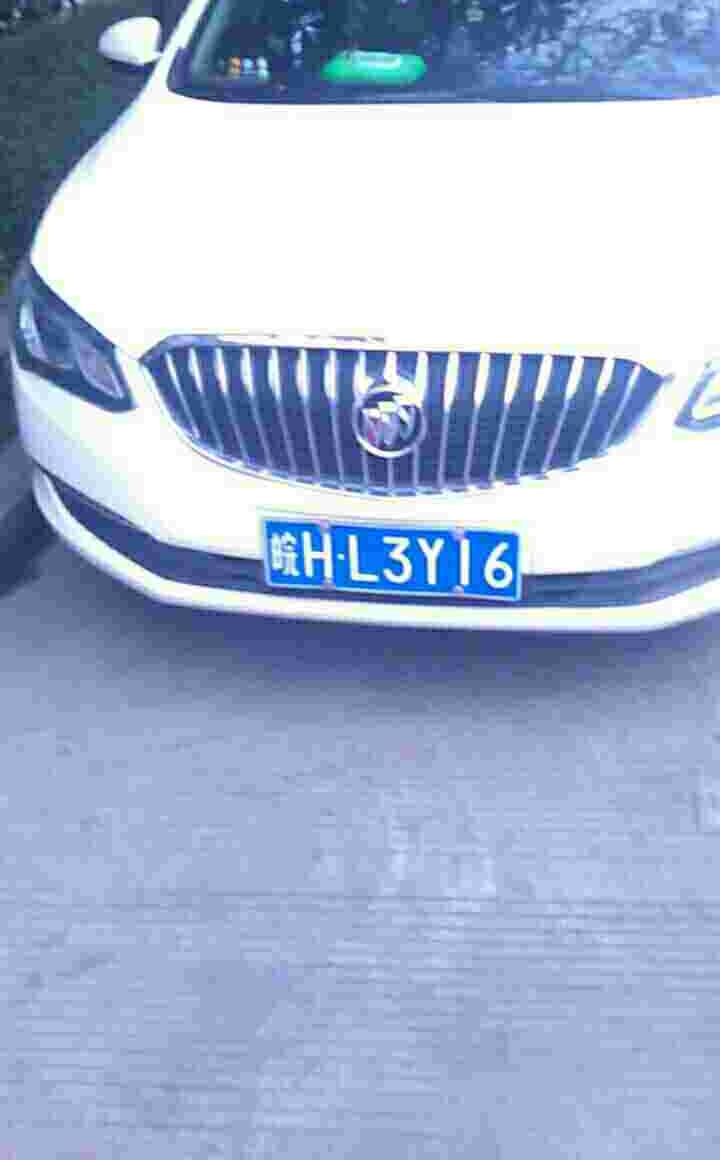plate: (262, 515, 528, 603)
